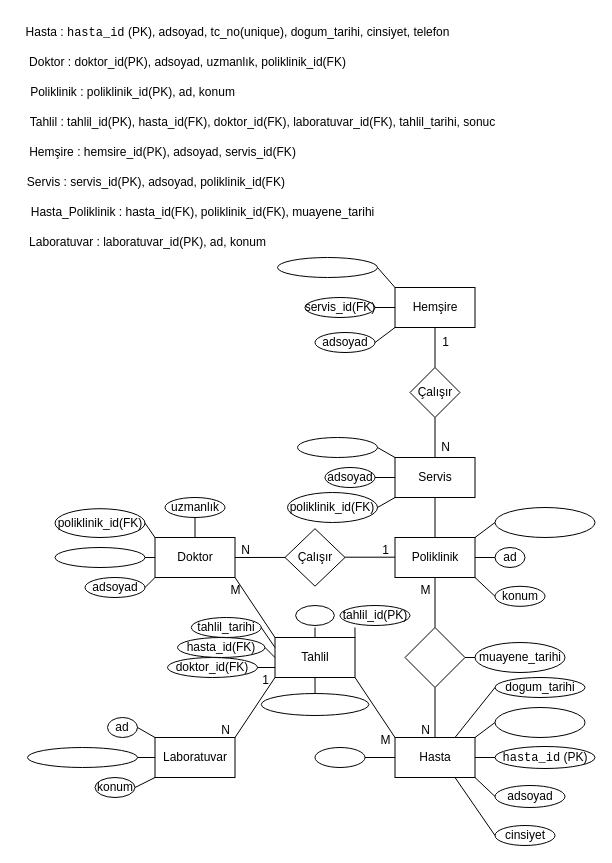
Image size: 612x863. Some labels were removed from this diagram. Here are the shapes that lost their labels. From the top down, the box of each, then its label:
(276, 256, 378, 278): hemsire_id(PK)
(296, 436, 378, 458): servis_id(PK)
(494, 506, 595, 538): poliklinik_id(PK)
(54, 546, 145, 568): doktor_id(PK)
(295, 604, 334, 626): sonuc
(404, 626, 465, 688): Muayene
(260, 692, 369, 716): laboratuvar_id(FK)
(494, 706, 585, 738): tc_no(unique)
(26, 746, 138, 768): laboratuvar_id(PK)
(314, 746, 365, 768): telefon
